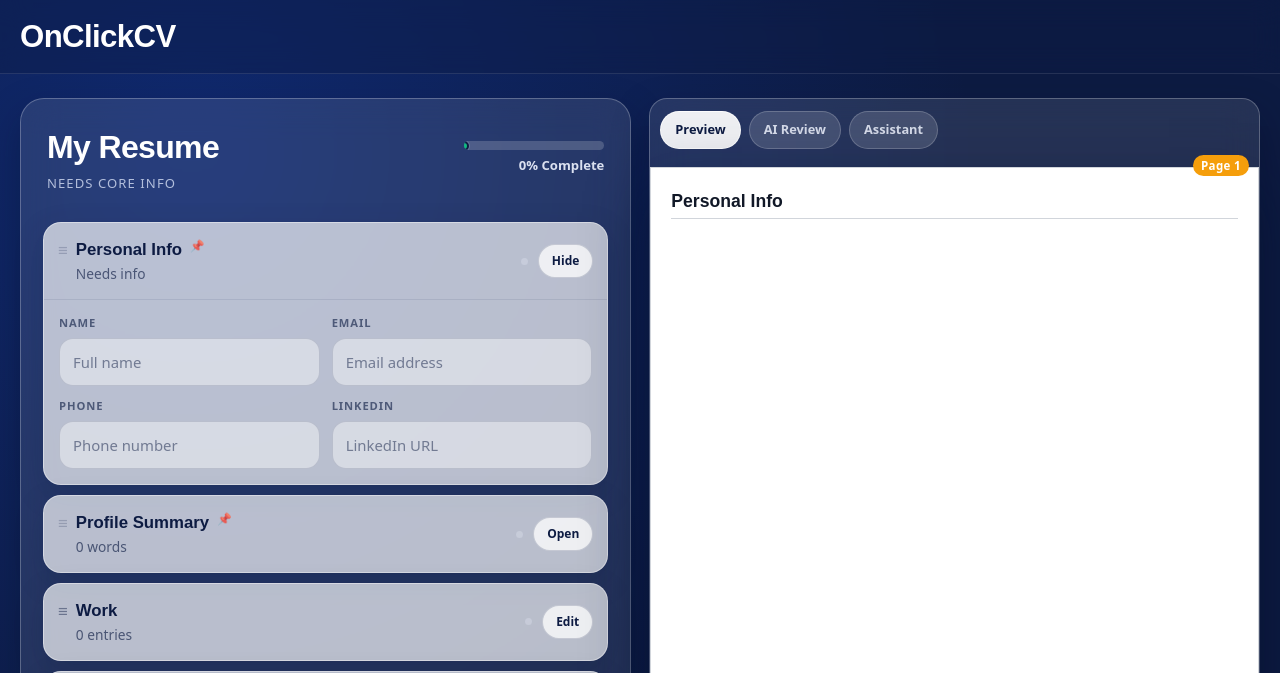
Test case: App › falls back to non-stream endpoint when SSE consumption fails
Click the button "AI Review": (795, 130) [749,111,841,149]
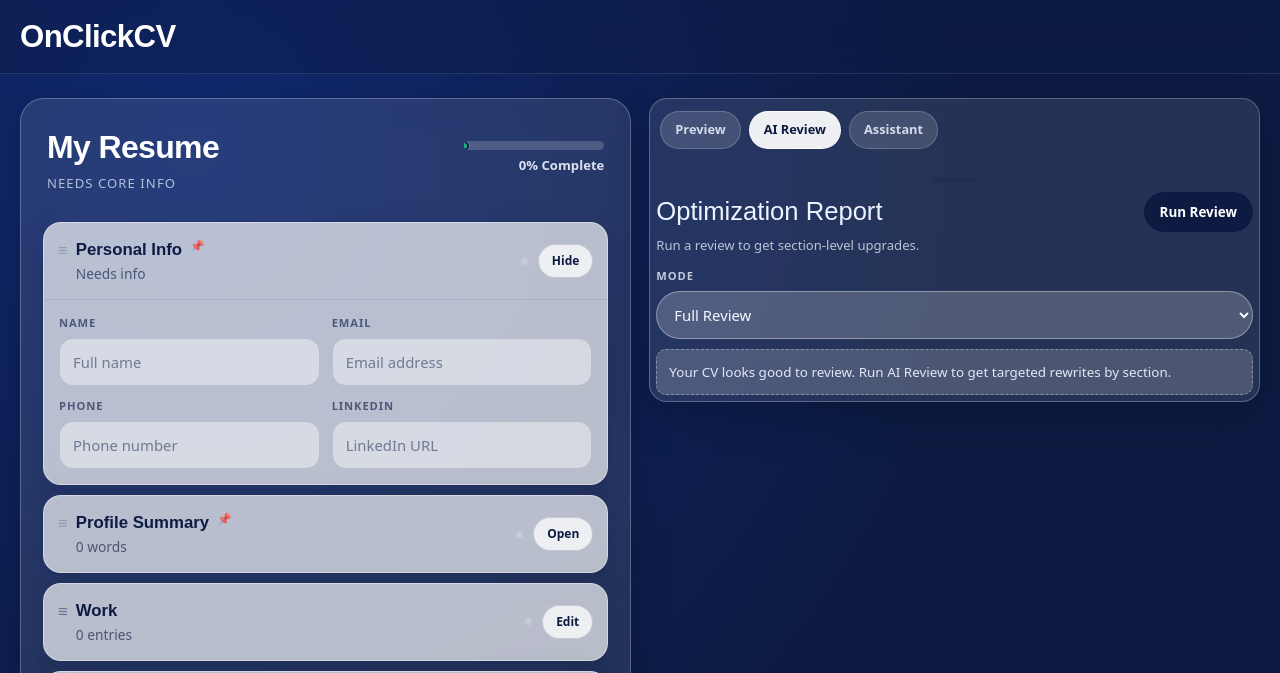
Click the button "Run Review": (1198, 212) [1144,192,1253,232]
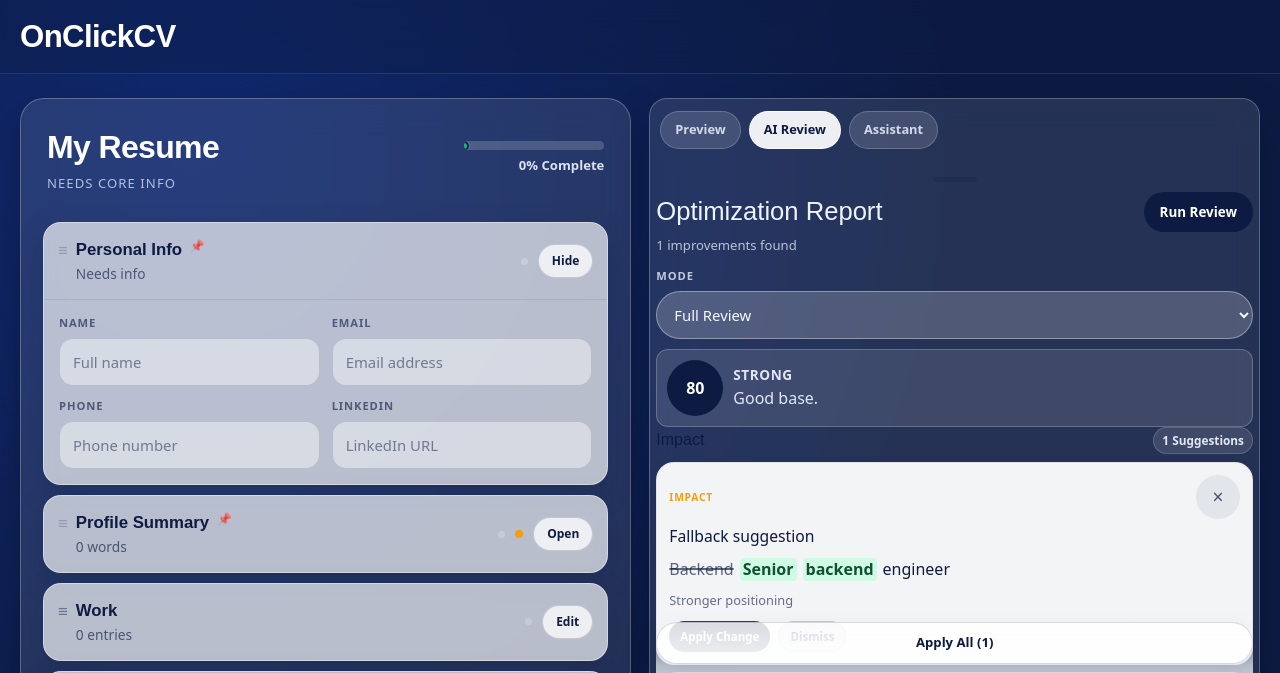
expect the text "Fallback suggestion" is shown: met, box [669,525,814,547]
